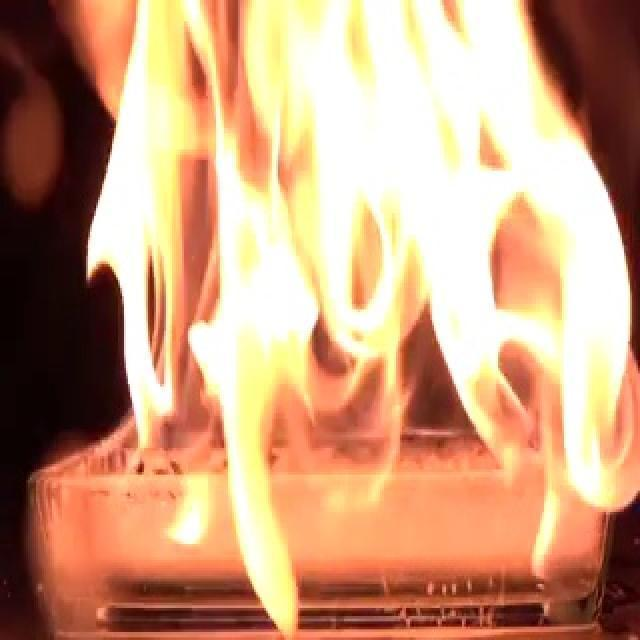fire: (91, 2, 634, 636)
